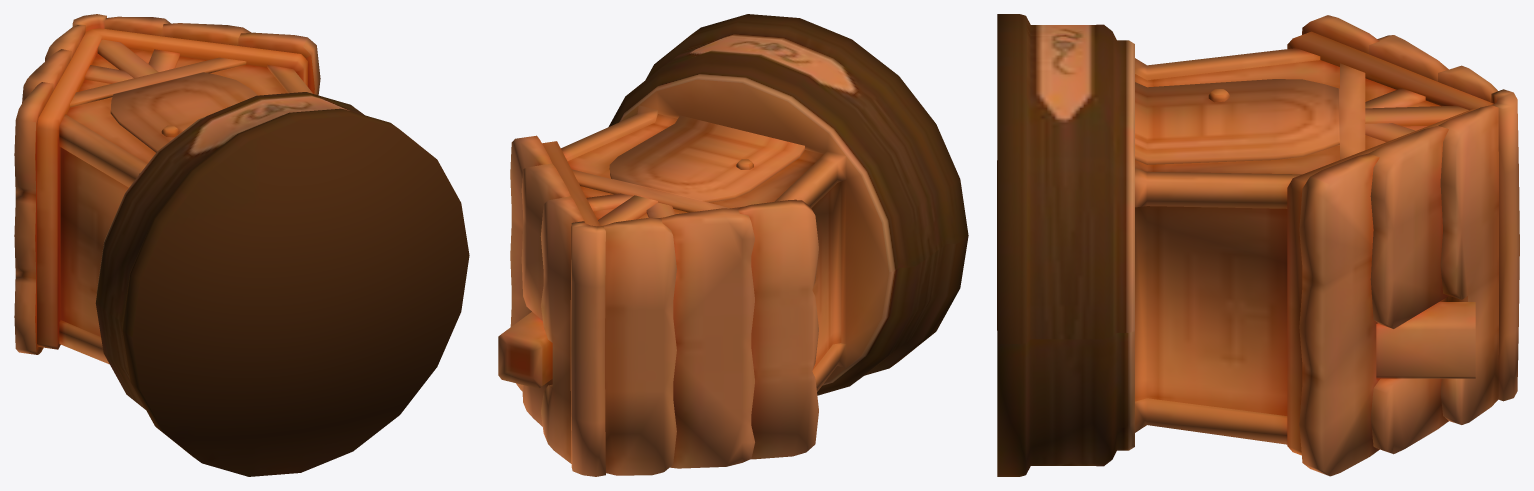
Rendered from bronze-hha-trophy.glb.
The picture shows the model from 3 angles, left to right: view 1: azimuth 30°, elevation 25°; view 2: azimuth 150°, elevation 25°; view 3: azimuth 270°, elevation 25°; orthographic projection. The views are drawn at different scales.
Visible parts, largest first — view 1: FtrTrophyHhaBronze_node1; view 2: FtrTrophyHhaBronze_node1; view 3: FtrTrophyHhaBronze_node1.
Boxes of the visible parts, x1,y1,x2,y2 form: FtrTrophyHhaBronze_node1: (14, 14, 469, 476); FtrTrophyHhaBronze_node1: (498, 14, 968, 476); FtrTrophyHhaBronze_node1: (997, 14, 1519, 476).
Size of the model in its own units: 6.18 by 6.18 by 6.92.
1 material, 1 textured.
